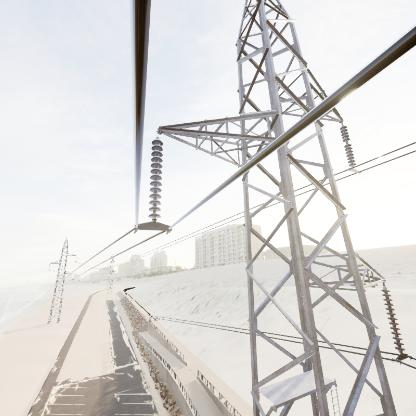insulator: (381, 288, 408, 360), (149, 138, 164, 225), (337, 124, 360, 175)
tower: (41, 236, 82, 328)
